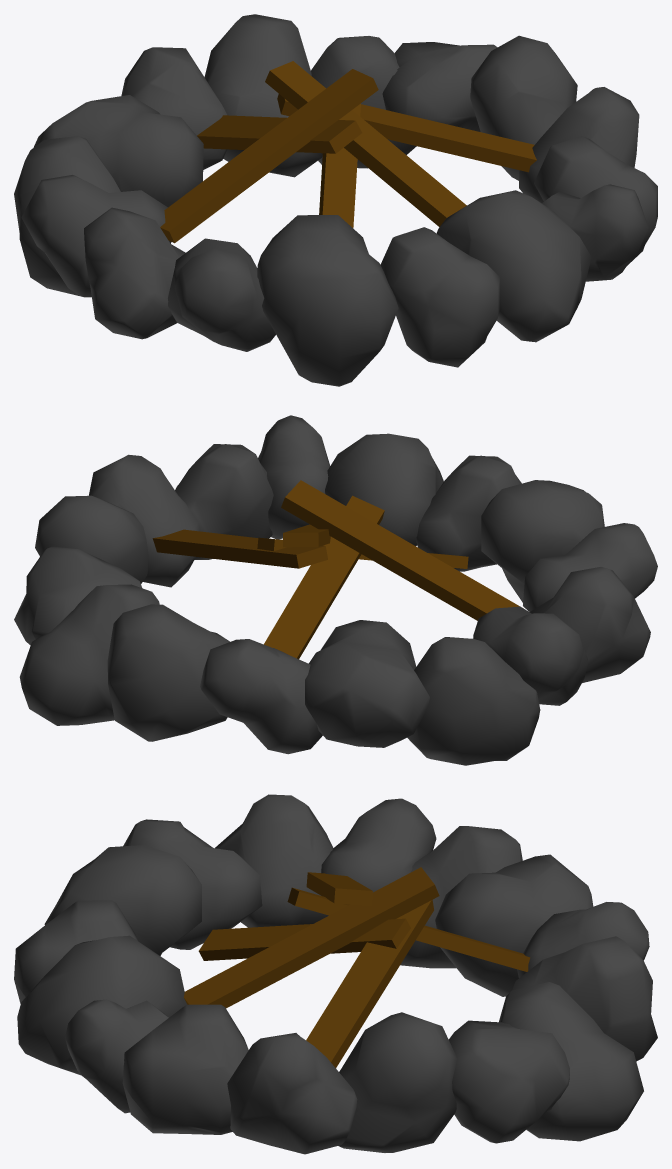
The model's file is กองไฟ.fbx.
3 renders of one model, top to bottom at view 1: azimuth 30°, elevation 25°; view 2: azimuth 150°, elevation 25°; view 3: azimuth 270°, elevation 25°, orthographic. The views are drawn at different scales.
Parts seen in each view (by area): view 1: Mball.017, Cube.004, Cube.003, Cube, Cube.002, Cube.001; view 2: Mball.017, Cube.004, Cube.002, Cube, Cube.003, Cube.001; view 3: Mball.017, Cube.003, Cube, Cube.001, Cube.002, Cube.004.
Boxes of the visible parts, left/top/right/bottom form: Mball.017: left=14, top=14, right=657, bottom=386; Cube.004: left=160, top=69, right=378, bottom=243; Cube.003: left=265, top=61, right=466, bottom=226; Cube: left=277, top=94, right=536, bottom=172; Cube.002: left=197, top=115, right=362, bottom=153; Cube.001: left=319, top=103, right=360, bottom=227; Mball.017: left=14, top=415, right=657, bottom=765; Cube.004: left=281, top=480, right=519, bottom=620; Cube.002: left=264, top=495, right=384, bottom=659; Cube: left=152, top=529, right=327, bottom=568; Cube.003: left=283, top=524, right=330, bottom=547; Cube.001: left=257, top=537, right=468, bottom=568; Mball.017: left=14, top=794, right=657, bottom=1154; Cube.003: left=183, top=867, right=439, bottom=1008; Cube: left=306, top=900, right=433, bottom=1067; Cube.001: left=198, top=918, right=410, bottom=960; Cube.002: left=287, top=887, right=530, bottom=971; Cube.004: left=306, top=872, right=372, bottom=905.
Size of the model in its own units: 755 by 241 by 743.
